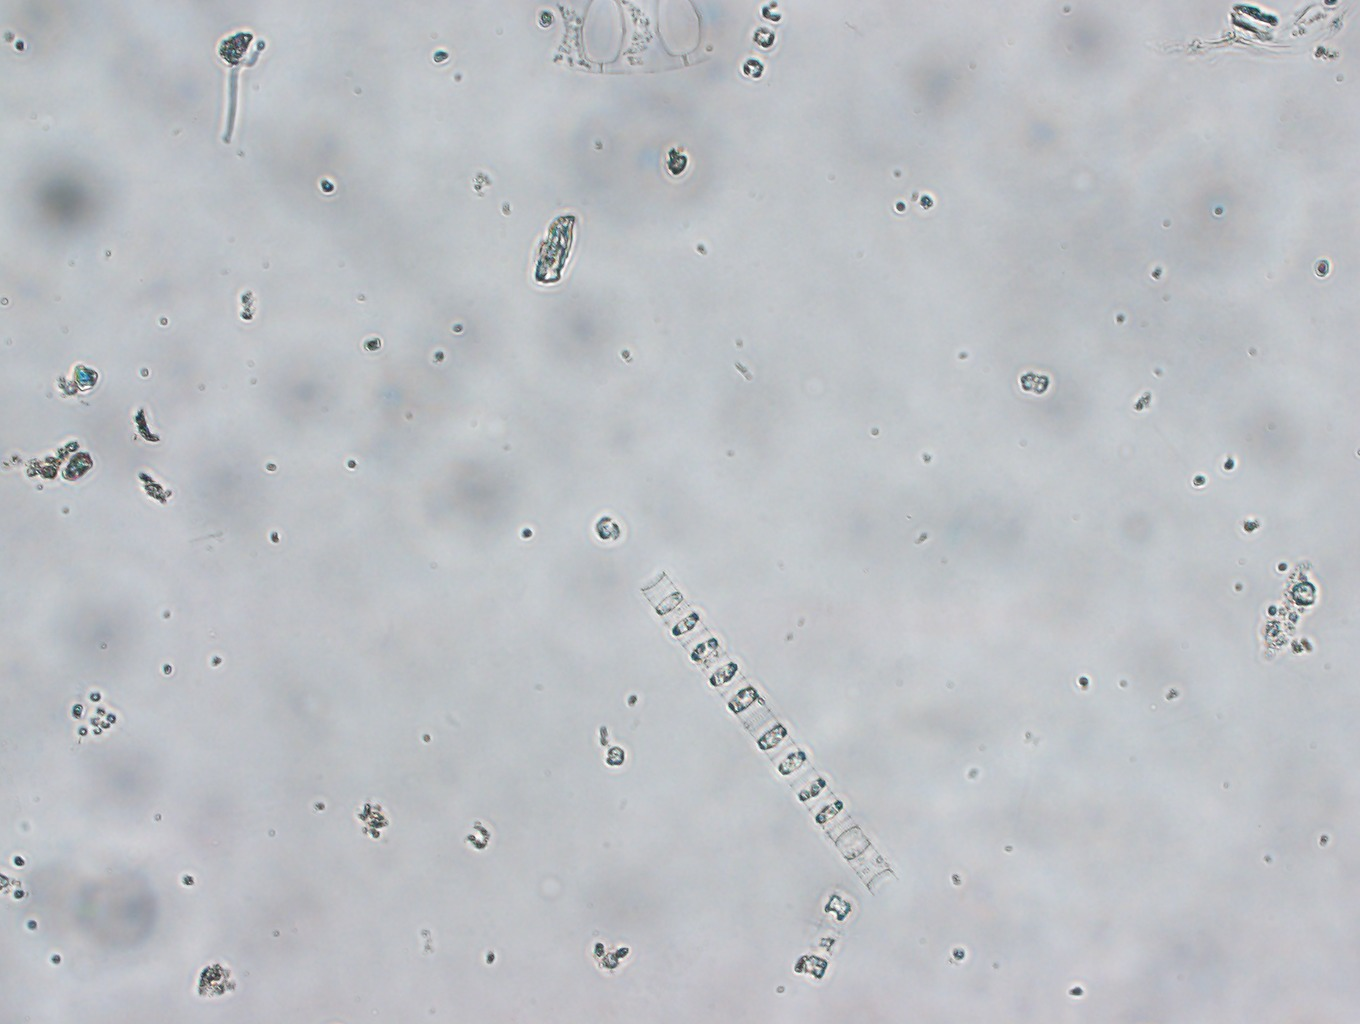skeletonema: (634, 569, 897, 897)
